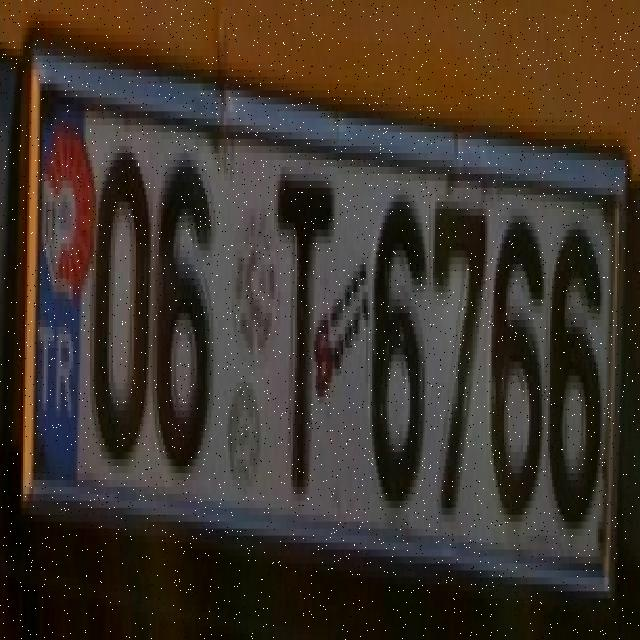licenseplate: (18, 26, 626, 604)
